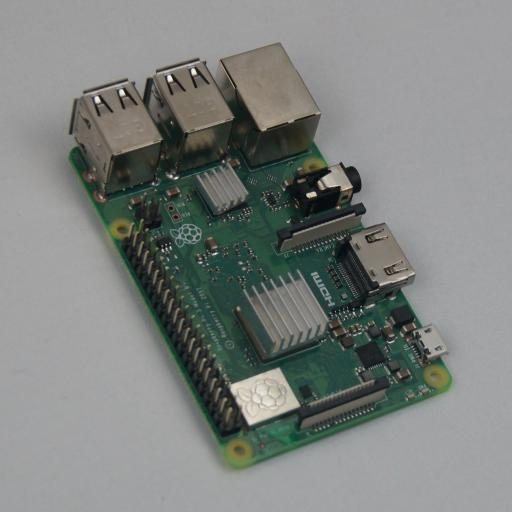Raspberry Pi 3 B-: (68, 43, 452, 467)
